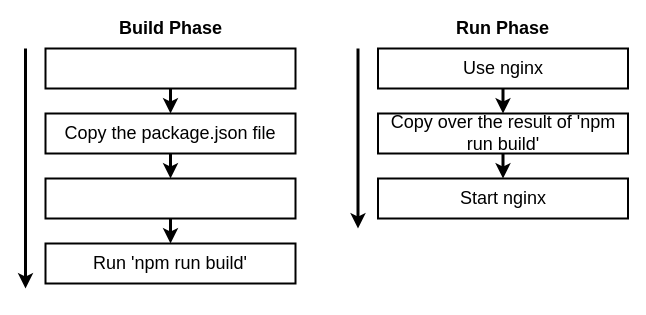
The diagram is 646 pixels wide and 315 high, and some of its shapes have lost their labels. Here are the shapes that lost their labels. From the top down, the centre of each, then its label:
At (x=170, y=68): "Use node:alpine".
At (x=170, y=198): "Install dependencies".
